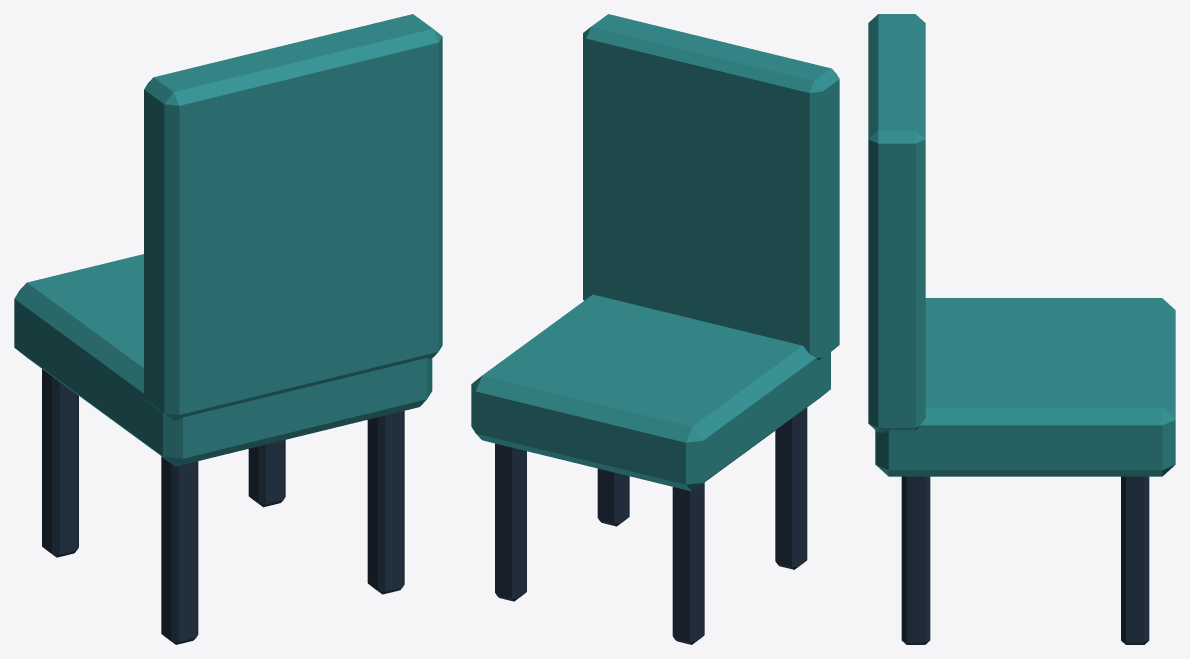
Rendered from SM_Chair.obj.
The picture shows the model from 3 angles, left to right: view 1: azimuth 30°, elevation 25°; view 2: azimuth 150°, elevation 25°; view 3: azimuth 270°, elevation 25°; orthographic projection. The views are drawn at different scales.
Visible parts, largest first — view 1: SM_Chair; view 2: SM_Chair; view 3: SM_Chair.
Boxes of the visible parts, bbox=[...] form: SM_Chair: bbox=[14, 14, 442, 644]; SM_Chair: bbox=[471, 14, 839, 644]; SM_Chair: bbox=[868, 14, 1175, 644].
Size of the model in its own units: 0.62 by 1.21 by 0.645.
